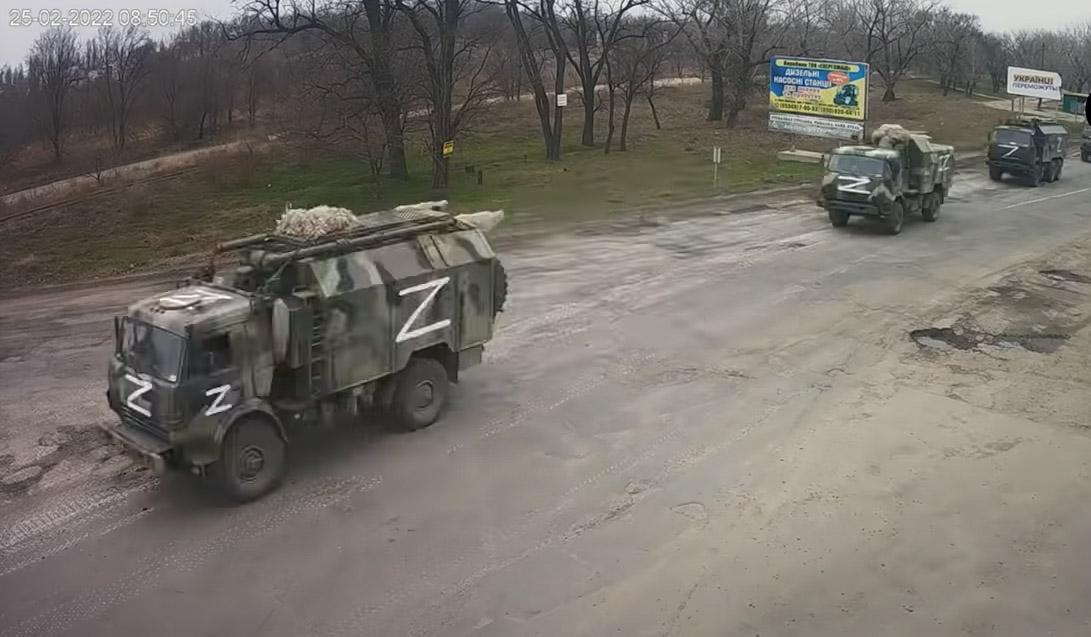truck: (88, 204, 550, 508), (816, 120, 960, 236), (987, 111, 1070, 193)
